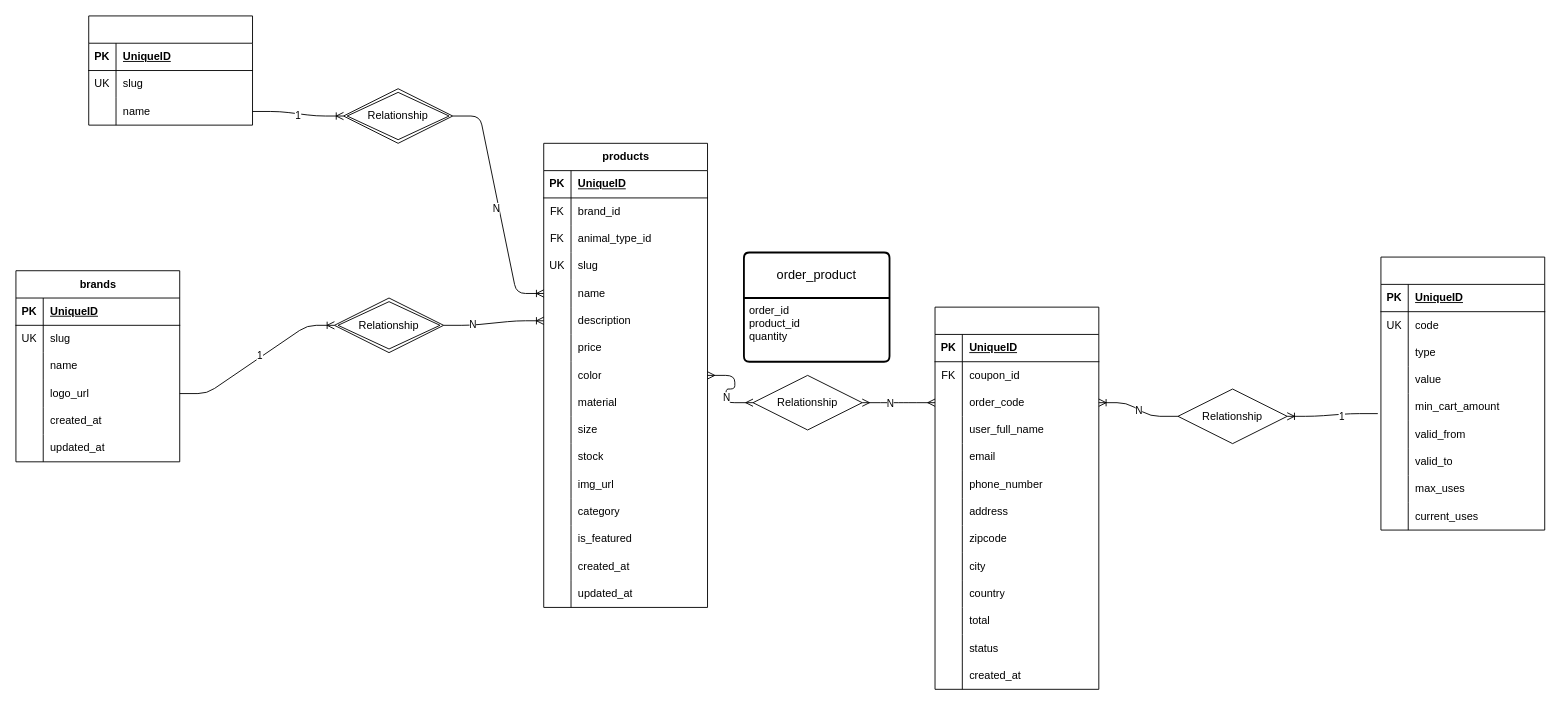
Image size: 1561x705. Some labels were removed from this diagram. Each missing label, with the box of its shape:
animal_types: (88, 15, 253, 125)
coupons: (1380, 256, 1545, 530)
orders: (934, 306, 1099, 689)
